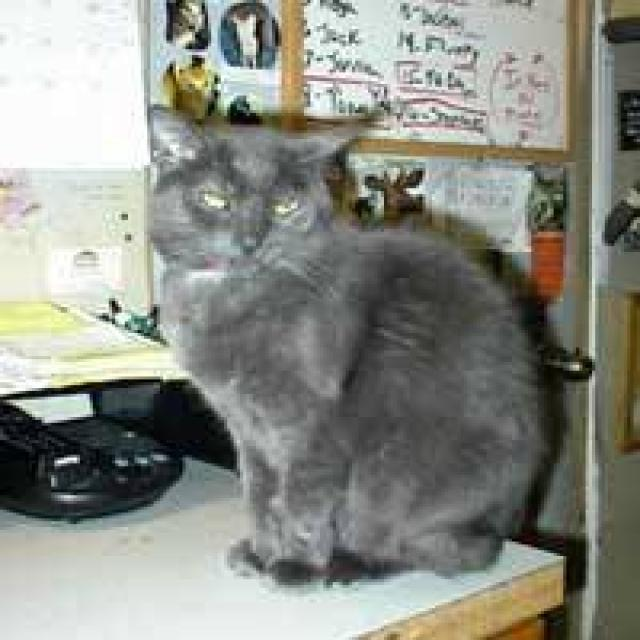cat: (144, 101, 573, 585)
